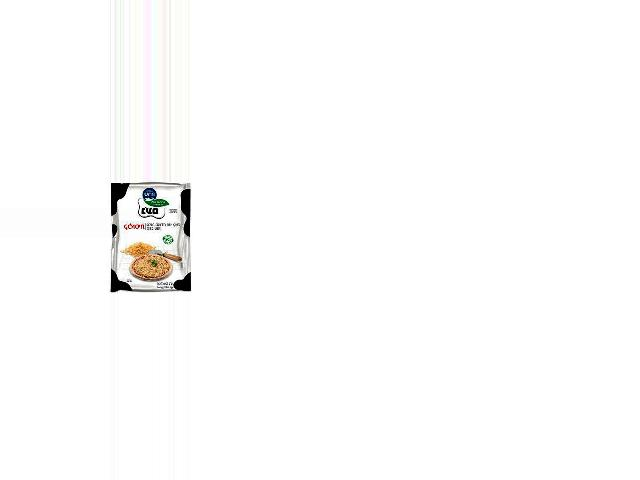cheese: (108, 182, 192, 294)
